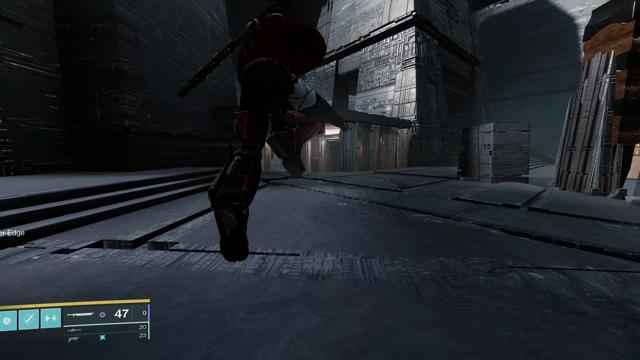kill: (357, 139, 363, 161)
